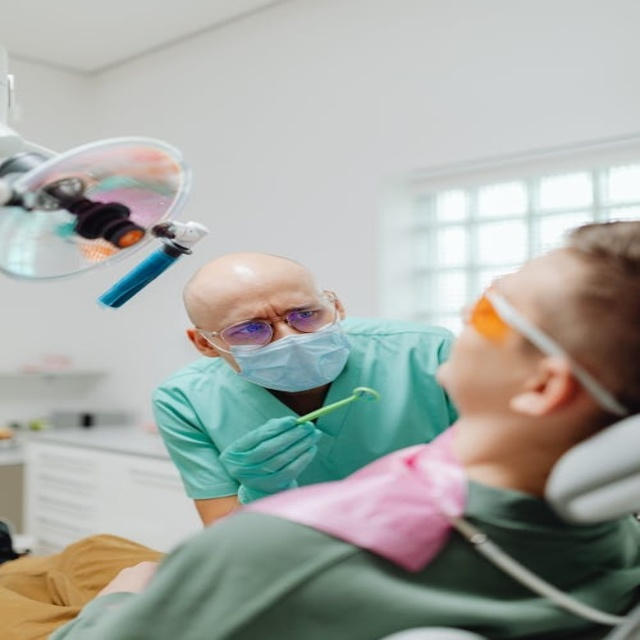Gafas: (457, 282, 609, 402), (180, 287, 346, 353)
Guantes: (219, 415, 321, 497)
Mascara: (218, 313, 351, 393)
Sin_mascara: (429, 340, 472, 388)
